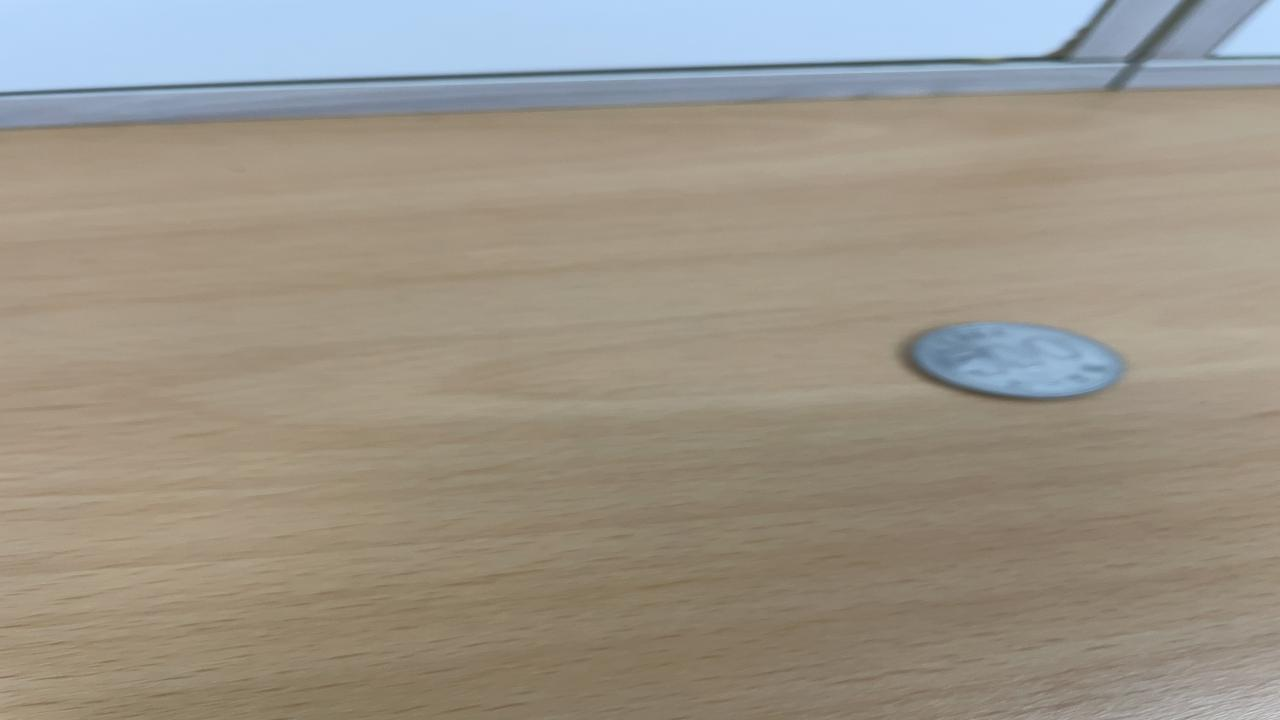coin: (904, 320, 1132, 402)
